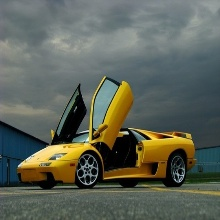no damage: (18, 115, 197, 189)
